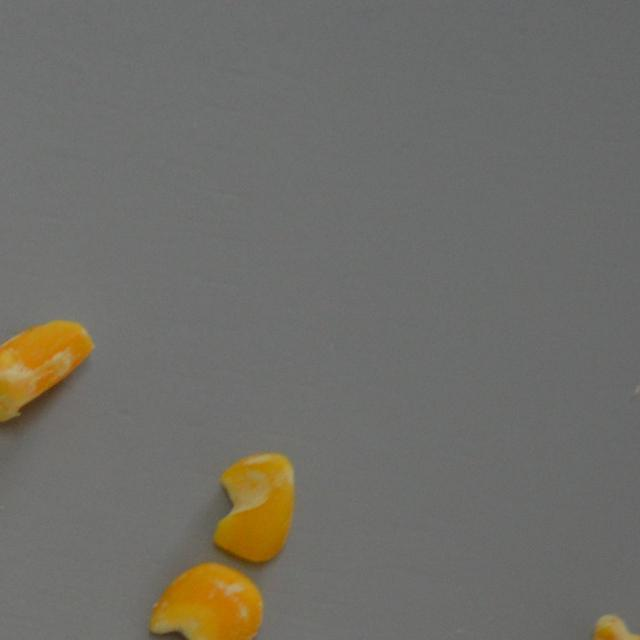pelicula: (0, 320, 95, 422), (148, 559, 266, 640), (210, 450, 292, 561), (590, 612, 640, 640)
